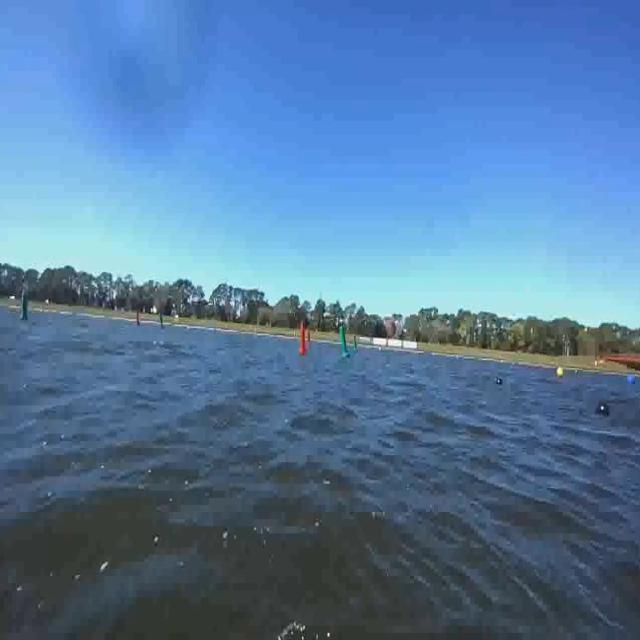black-buoy: (596, 402, 610, 418), (497, 375, 504, 389)
blue-buoy: (627, 372, 637, 386)
green-column-buoy: (18, 292, 29, 321), (341, 327, 351, 358), (160, 311, 167, 330), (353, 337, 359, 352)
red-column-buoy: (298, 323, 307, 353), (136, 310, 142, 328)
yellow-buoy: (556, 364, 564, 378)
